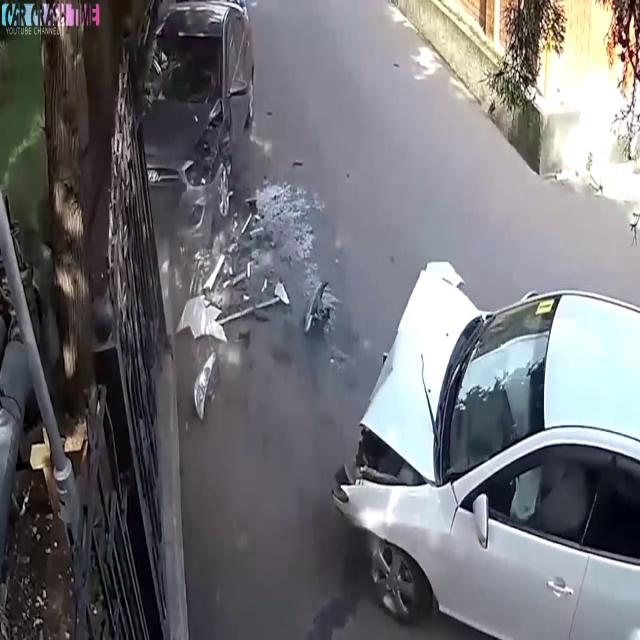Accident: (331, 226, 633, 640), (107, 31, 293, 306)
